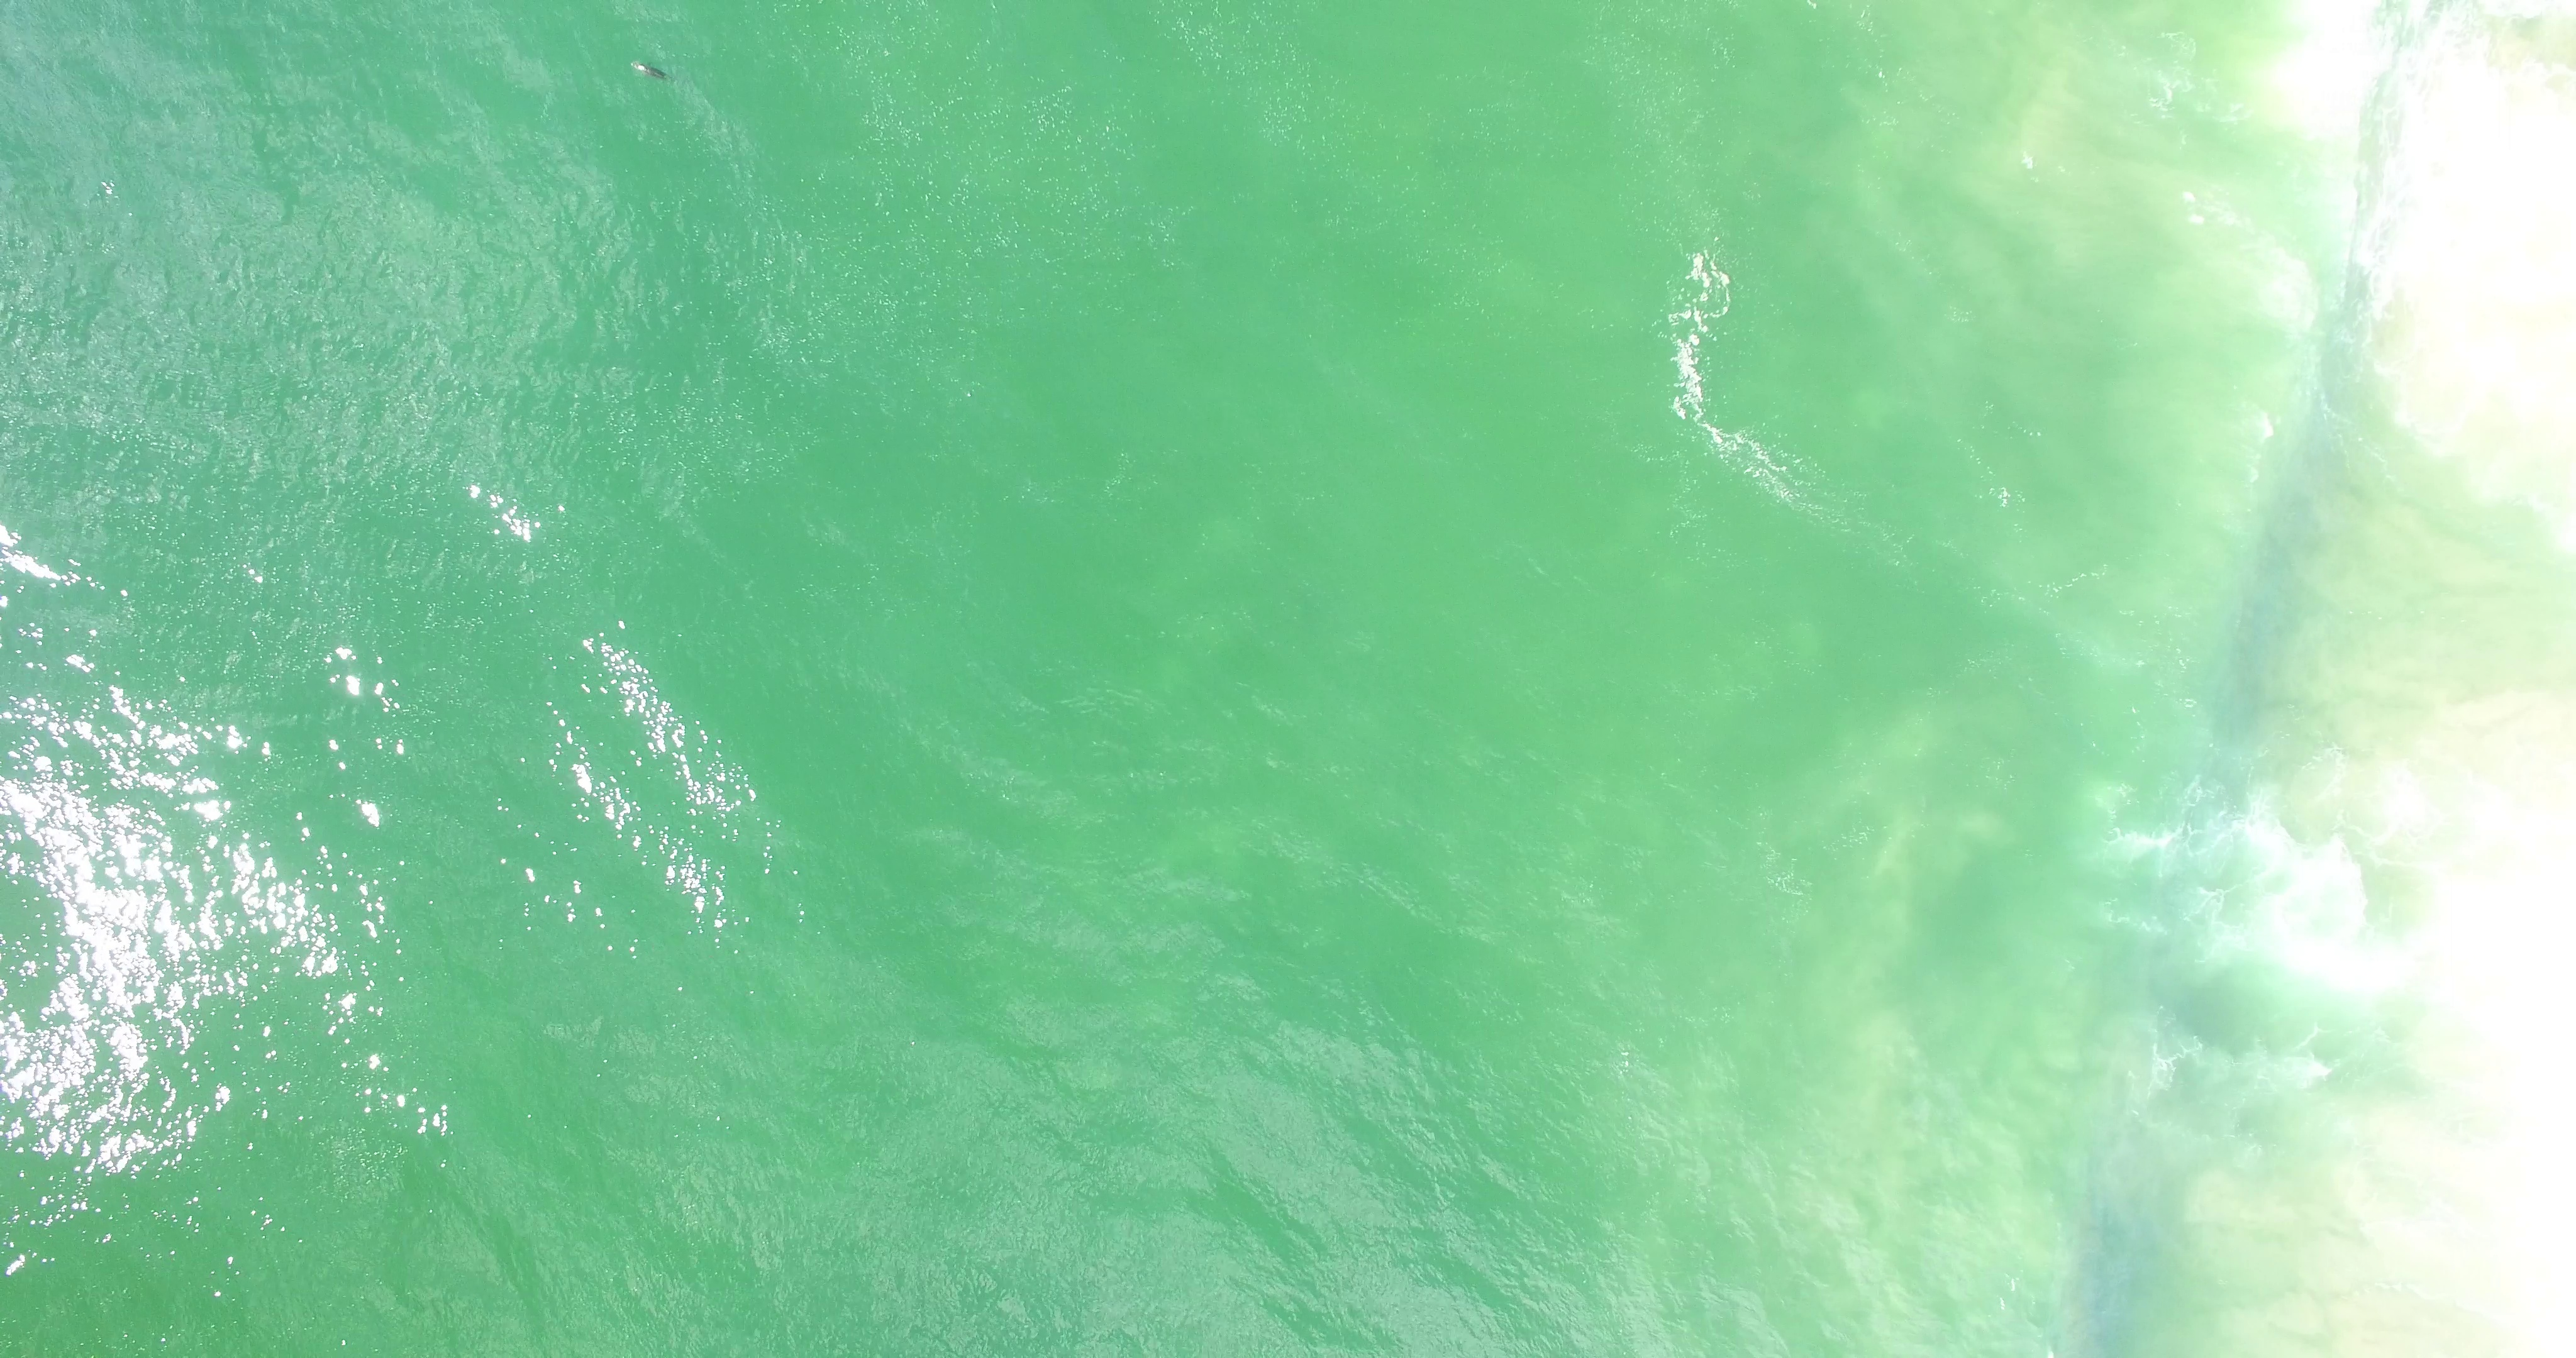dolphin: (627, 58, 673, 82)
